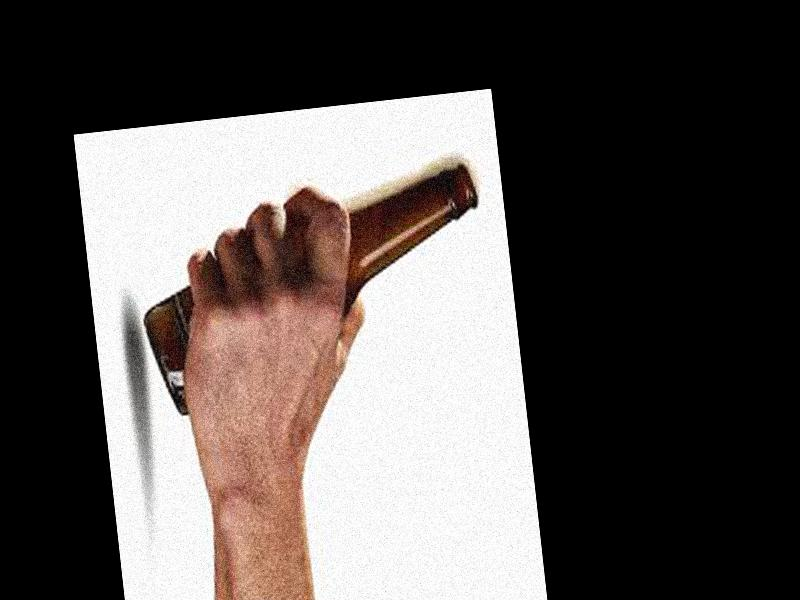Beer: (126, 162, 496, 418)
